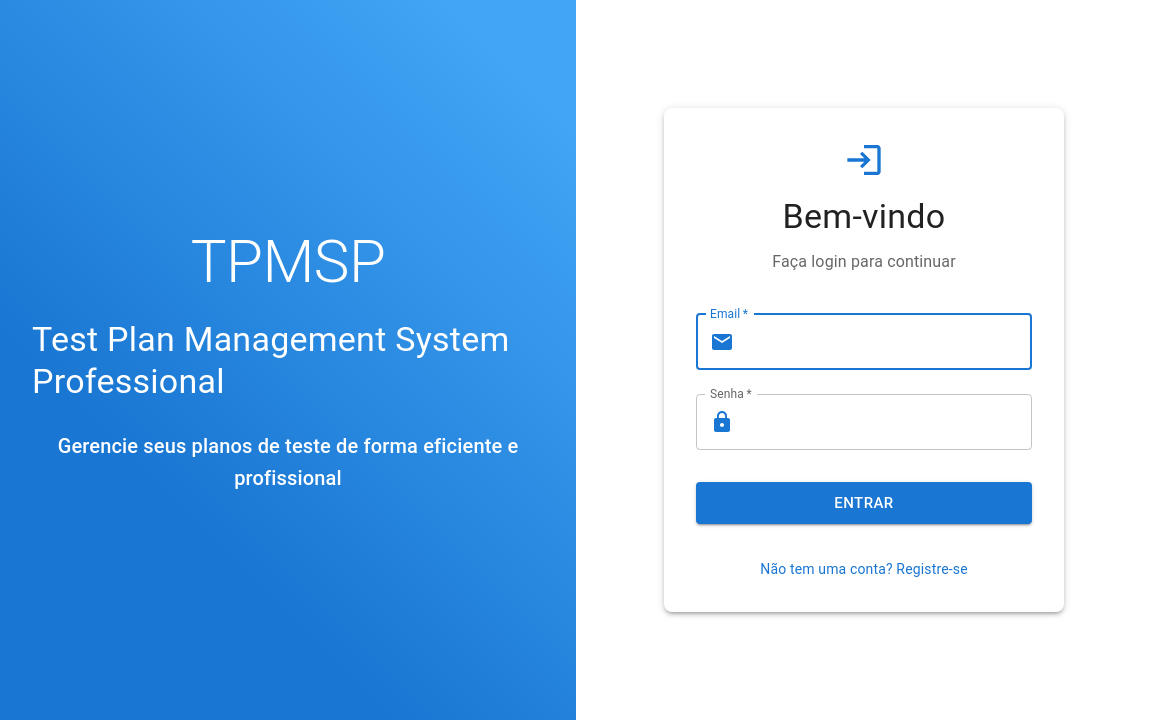
Test: LoginForm Component › shows error message on login failure
Type "test@example.com" into the field labelled "Email *" at (887, 342), box [742,314,1032,370]
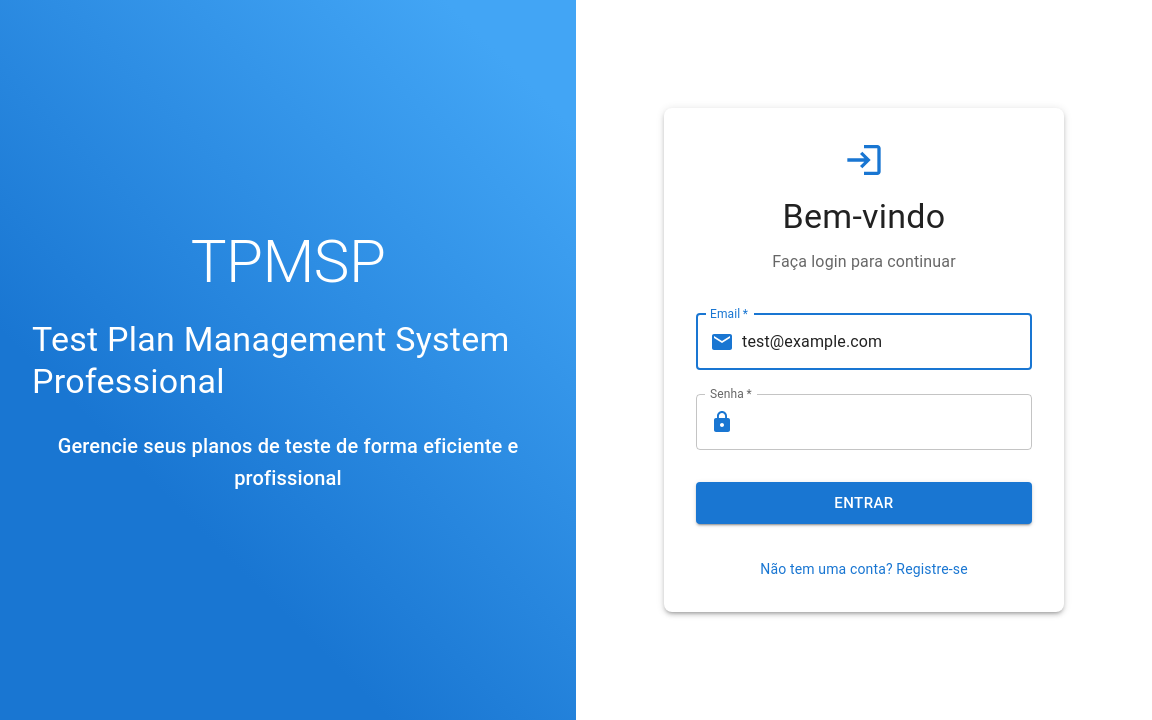
Type "wrongpassword" into the password field labelled "Senha *" at (887, 422), box [742,394,1032,450]
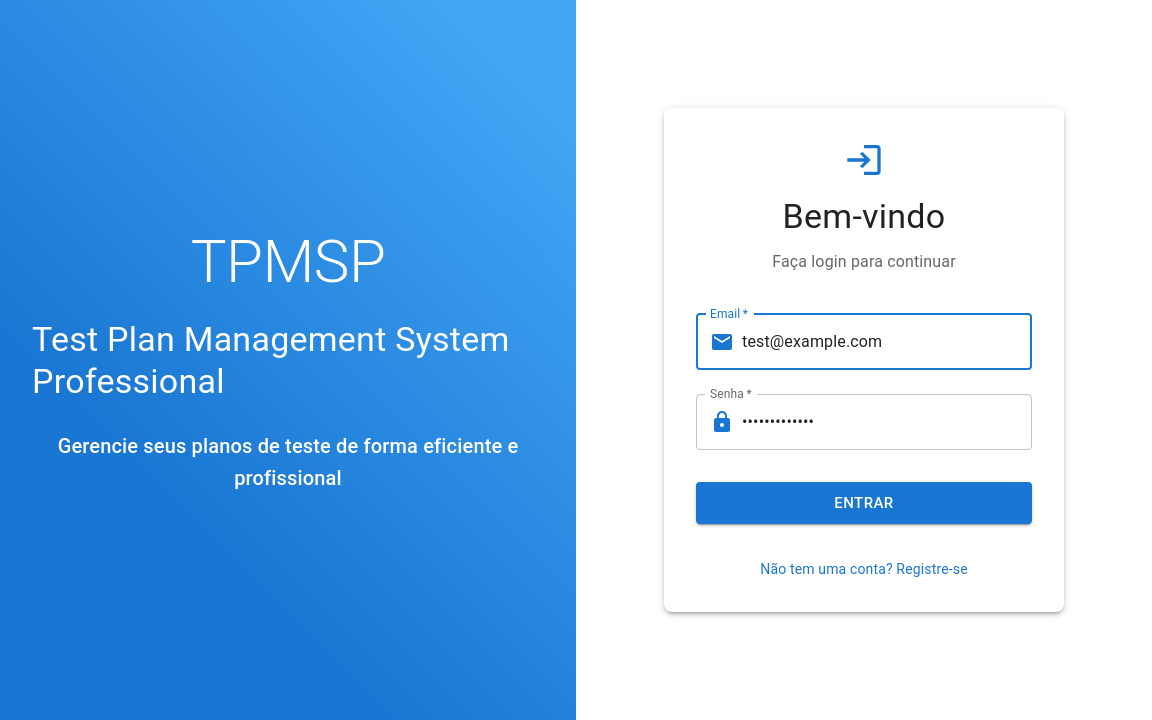
Click the button "Entrar" at (864, 503), box [696,482,1032,524]
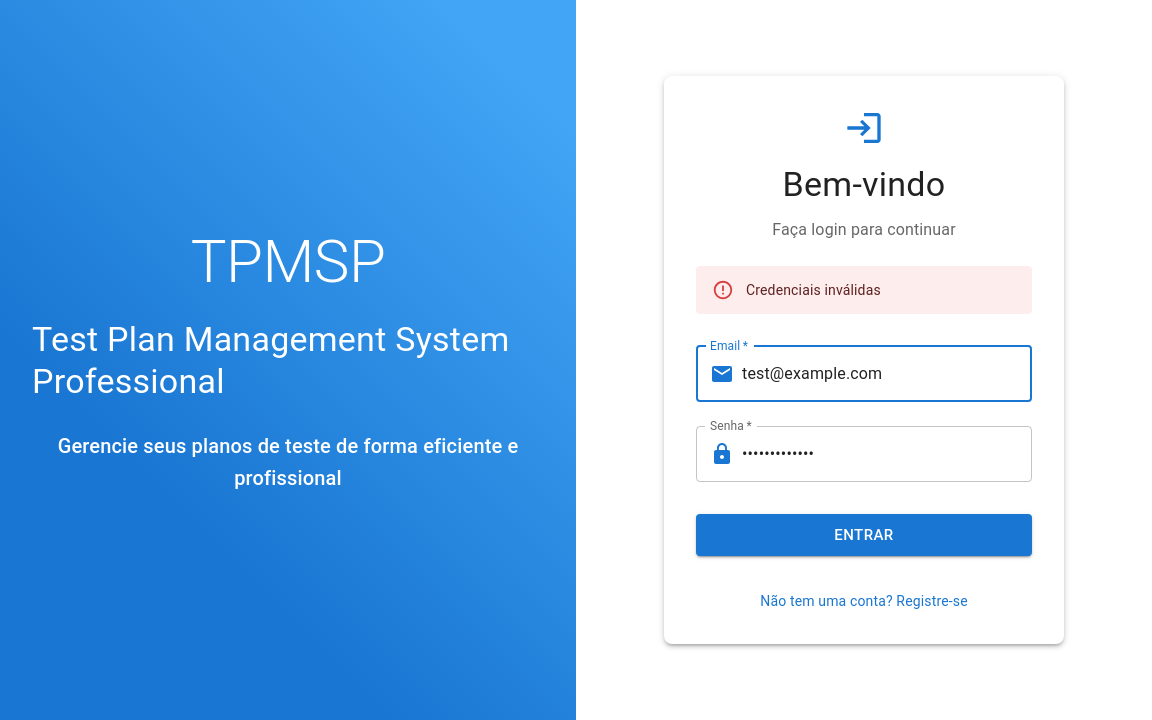
Now the text "Credenciais inválidas" is shown, box [746,282,881,298]
